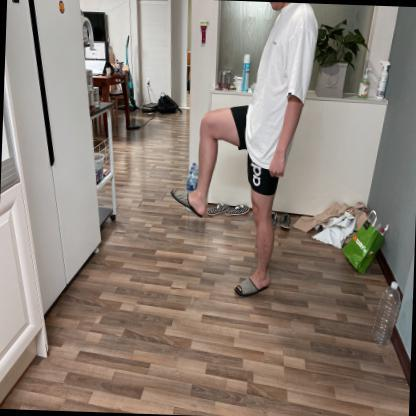no_safety-shoe: (166, 181, 219, 226), (230, 266, 276, 303)
